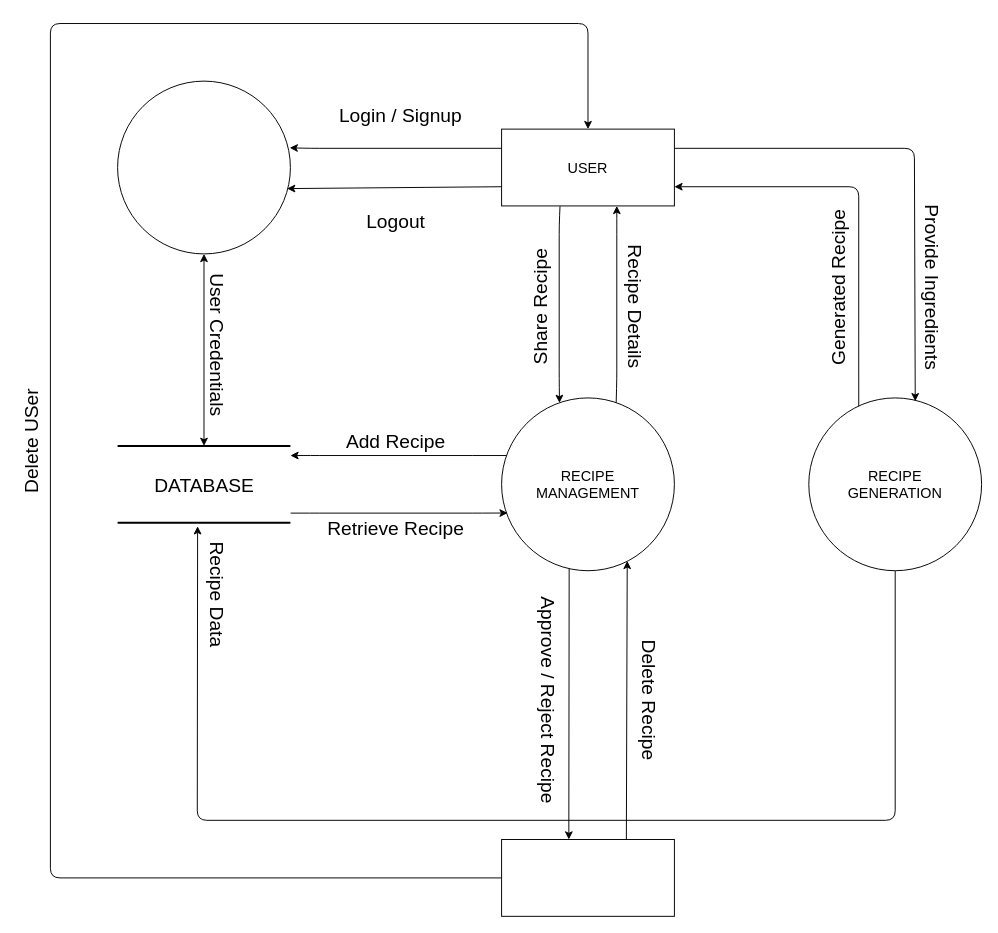
The diagram is 998 pixels wide and 933 high, and some of its shapes have lost their labels. Each missing label, with the centre of its shape:
"ADMIN" goes at point (587, 877).
"USER AUTHENTICATION" goes at point (203, 167).
